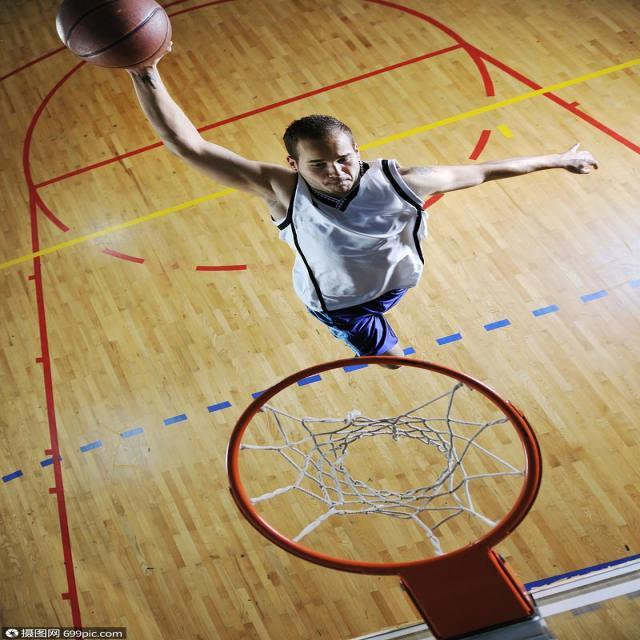rim: (52, 0, 170, 68)
